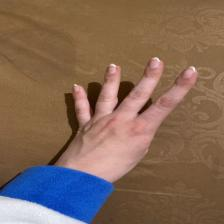four: (61, 55, 202, 172)
